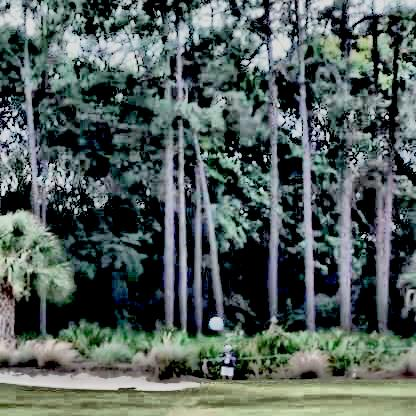golfball: (206, 314, 221, 329)
